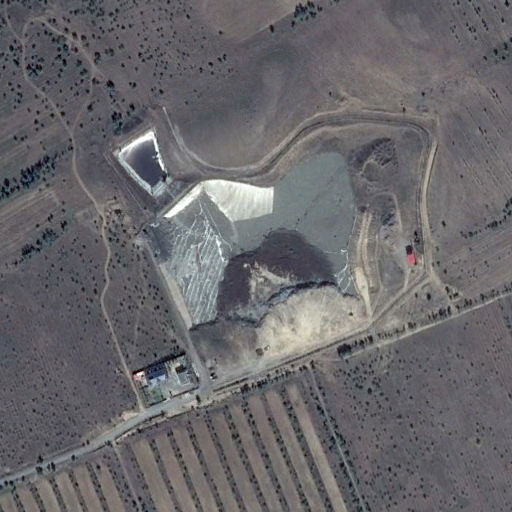lf: (149, 152, 361, 381)
